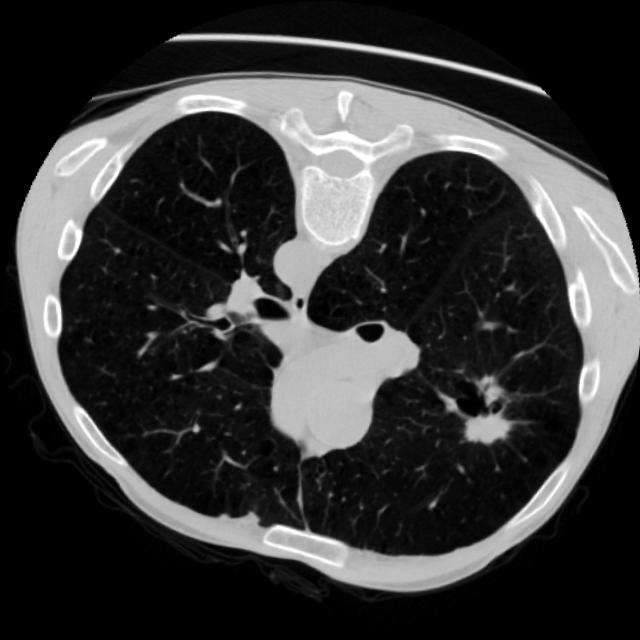nodule: (434, 358, 544, 469)
